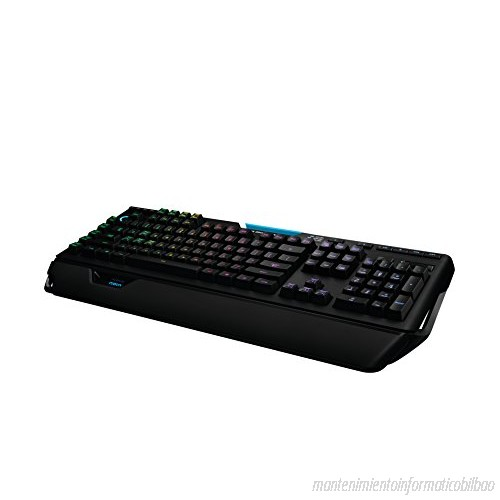Teclado: (38, 203, 458, 375)
